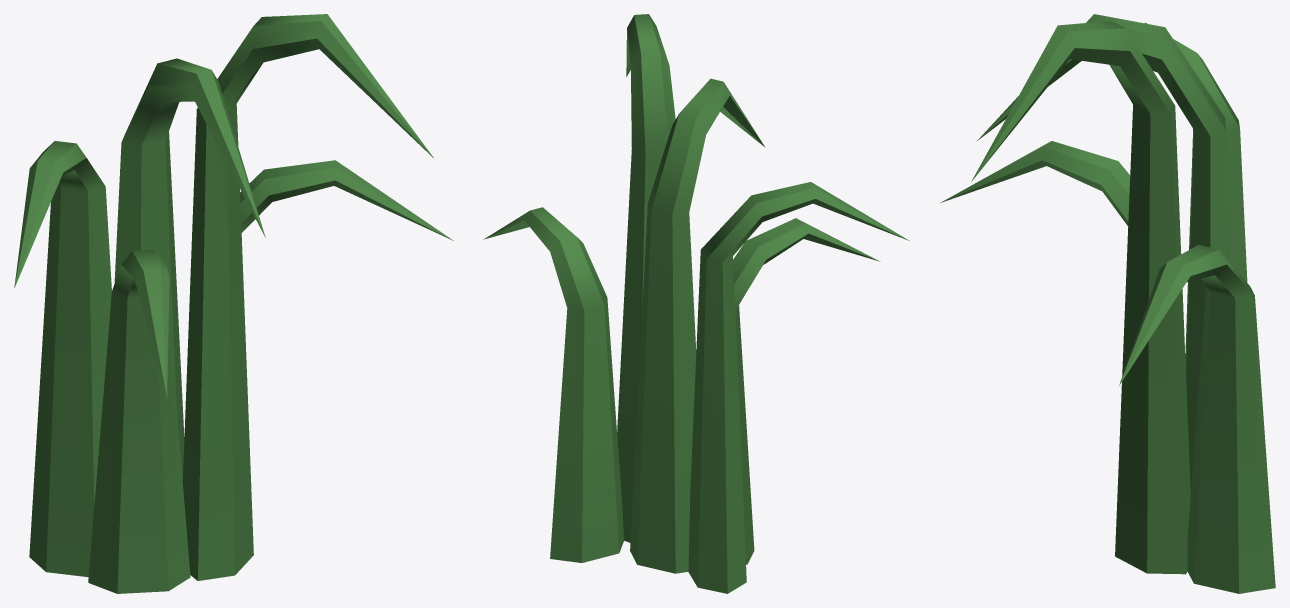
Rendered from grass.fbx.
3 views of the same model, side by side, from view 1: azimuth 30°, elevation 25°; view 2: azimuth 150°, elevation 25°; view 3: azimuth 270°, elevation 25° (orthographic). The views are drawn at different scales.
Parts seen in each view (by area): view 1: pCone6; view 2: pCone6; view 3: pCone6.
Part boxes in pixels (box(x1,y1,x2,y2)): pCone6: box(14, 14, 453, 593); pCone6: box(483, 14, 909, 593); pCone6: box(940, 14, 1275, 593).
Bounding box in the file's own units: 1.57 × 1.79 × 0.9779.
